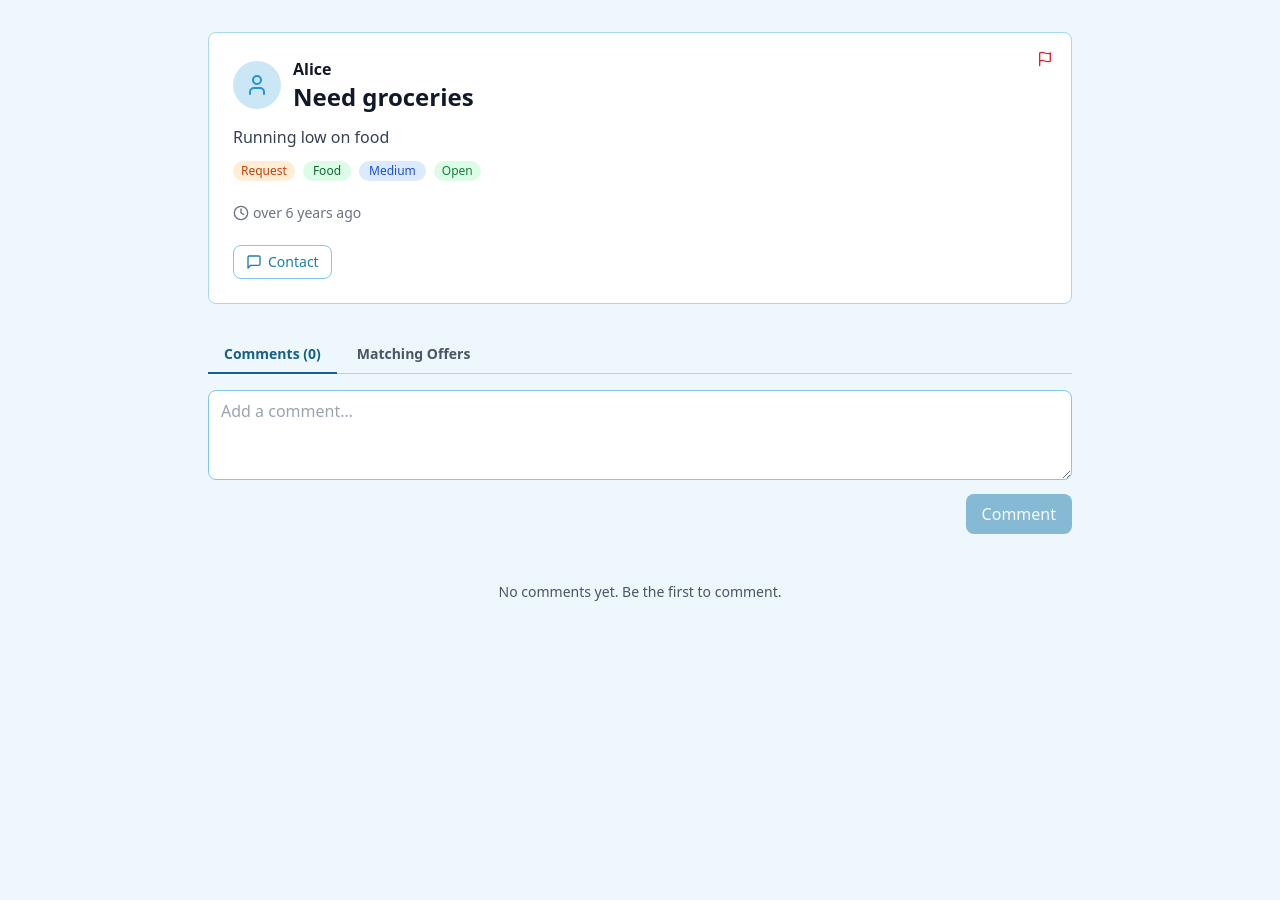
PostDetailPage — report flag › cancels without submitting when the Cancel button is clicked
The width and height of the screenshot is (1280, 900).
Click the button named "report post" at [1045, 59], box [1031,45,1059,73]
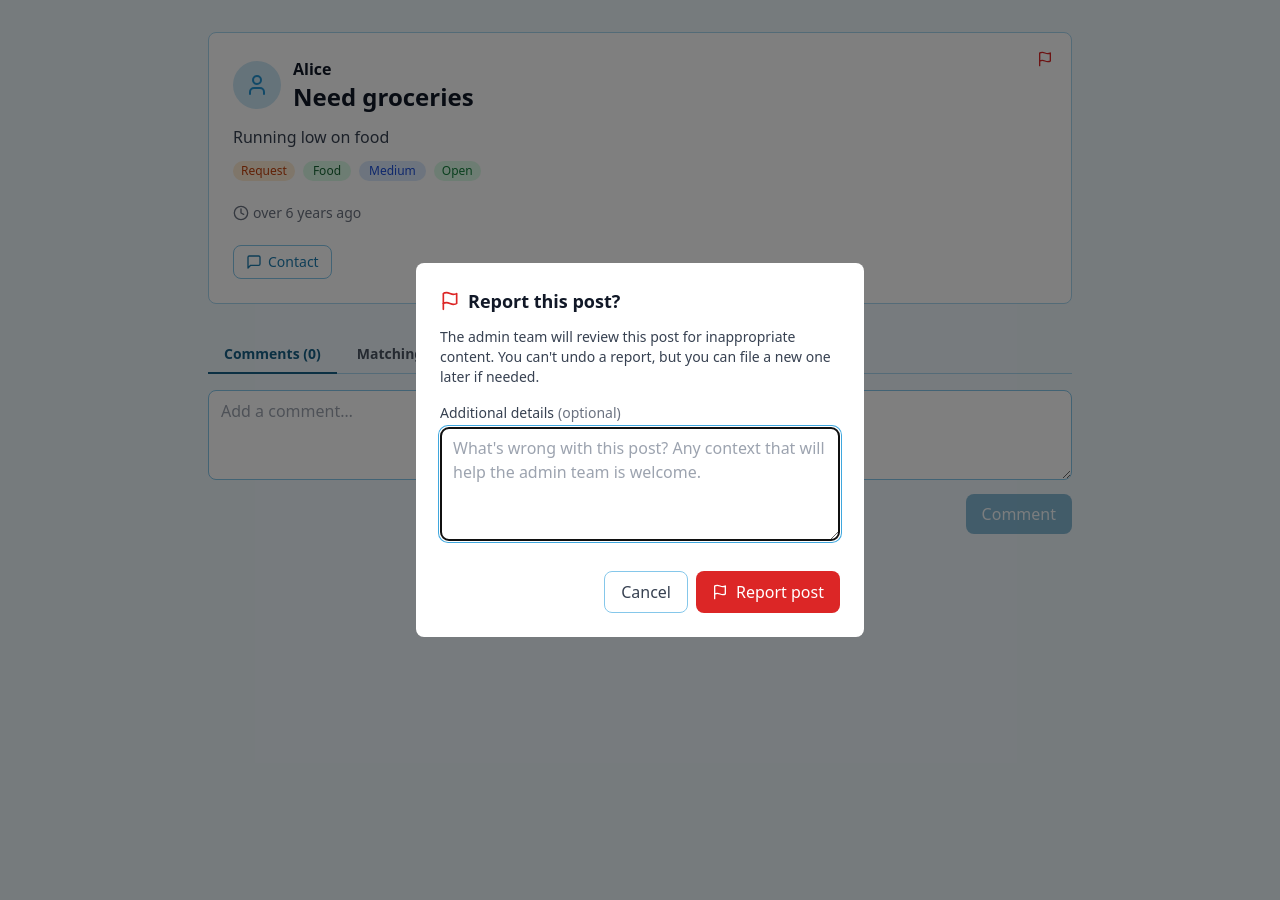
Click the button "Cancel" at [646, 592], box [604,571,688,613]
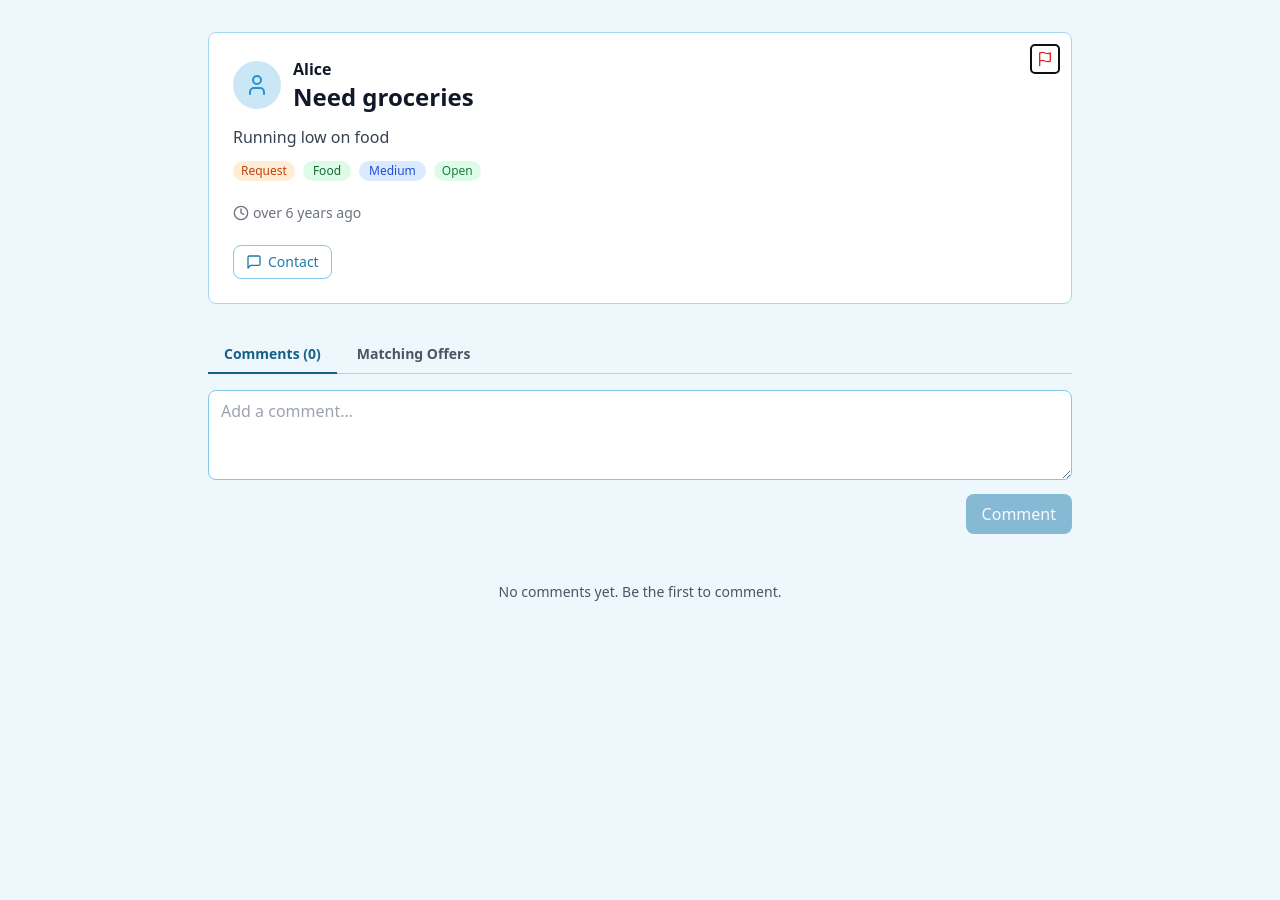
Now the heading "Report this post?" is gone
